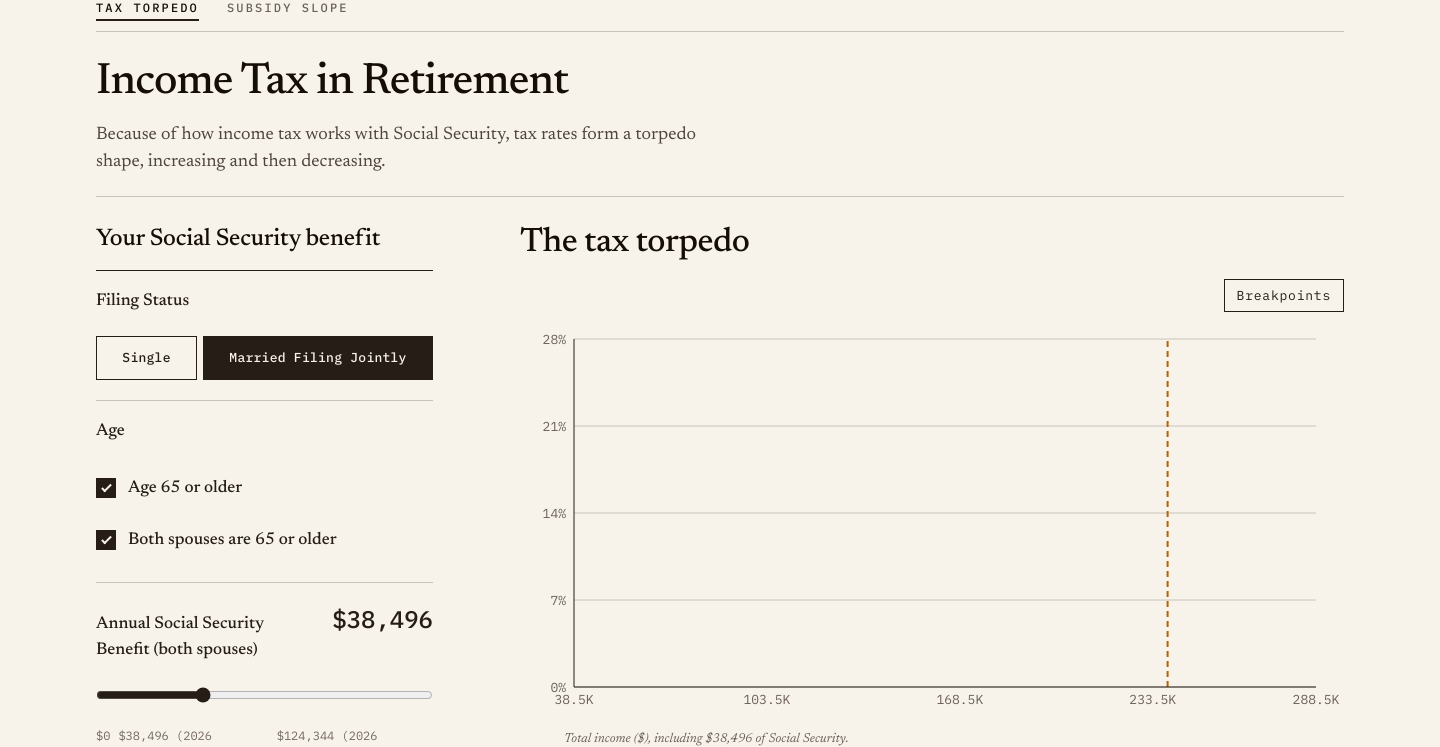
Test: the closing answer › holds the effective rate back when nothing comes in
The image size is (1440, 747).
Set the slider labelled "Annual Social Security Benefit (both spouses)" to "0" at point(104, 696), box [96,674,433,718]
(page scrolled)
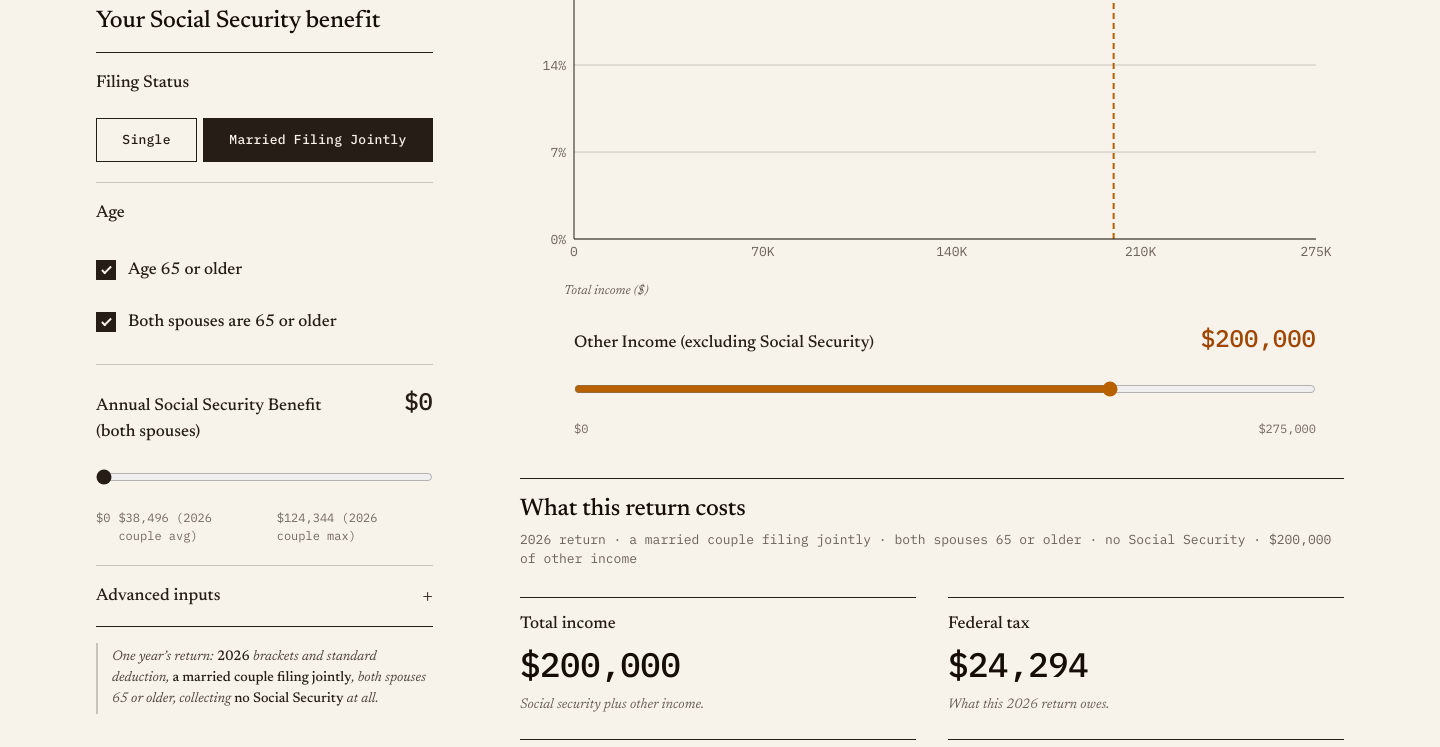
Set the slider labelled "Other Income (excluding Social Security)" to "0" at point(582, 389), box [574,367,1316,411]
(page scrolled)
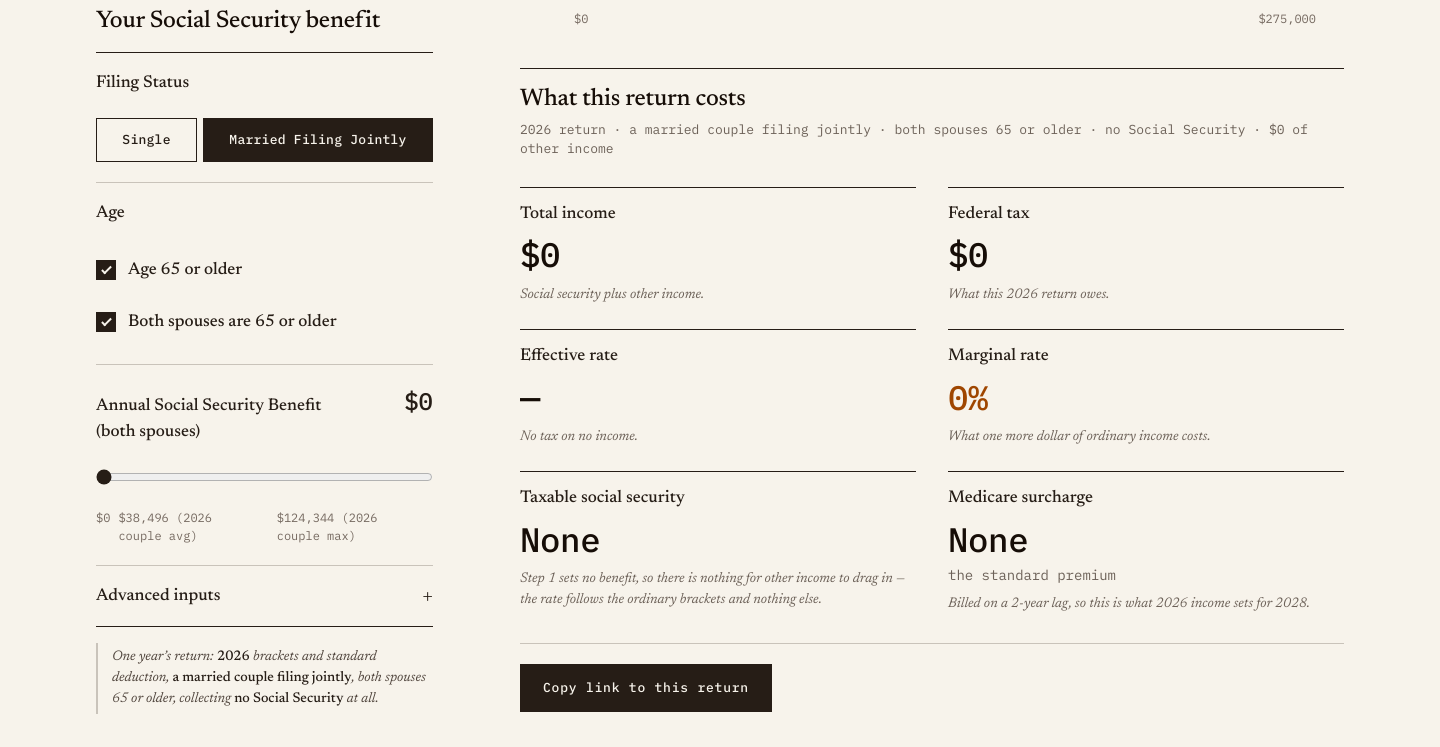
Now the text "Total income" shows "$0", box [520,232,560,276]
Now the text "Effective rate" shows "—", box [520,375,540,419]
Now the text "Effective rate" shows "No tax on no income.", box [520,430,638,444]
